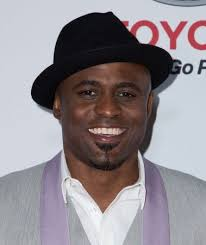black_male: (67, 58, 145, 164)
